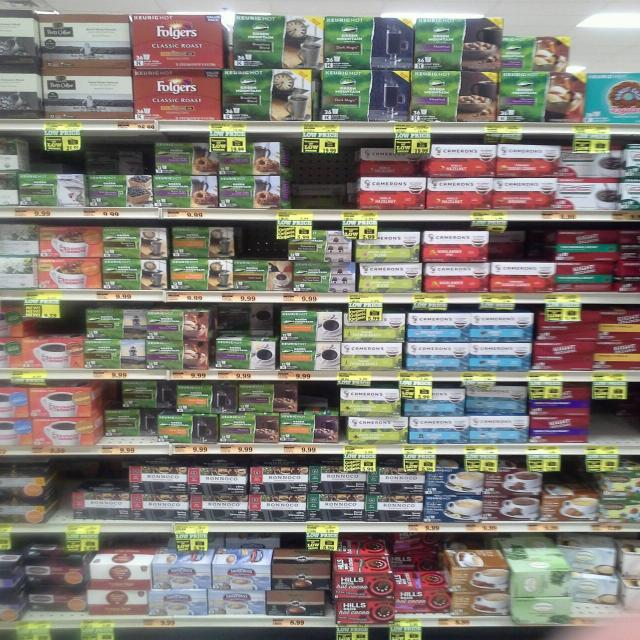empty: (593, 401, 636, 445)
